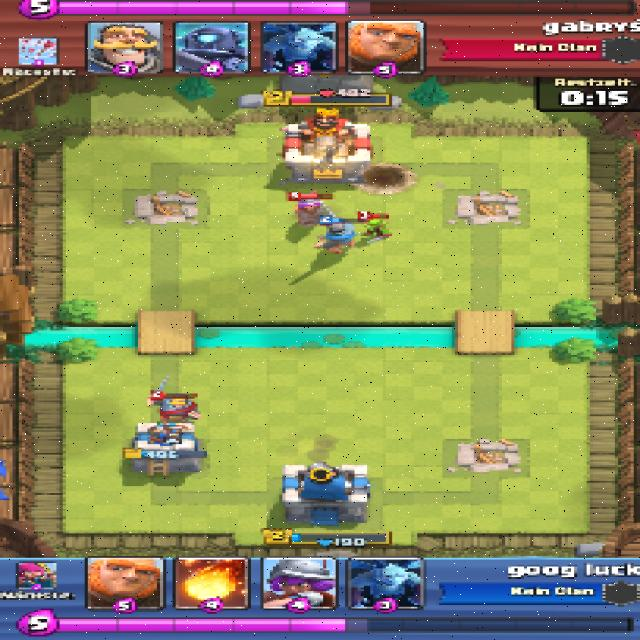Enemy-Goblin: (360, 216, 393, 243)
Enemy-Knight: (146, 379, 202, 422)
Enemy-Musketeer: (292, 195, 329, 224)
Player-Knight: (312, 221, 353, 255)
